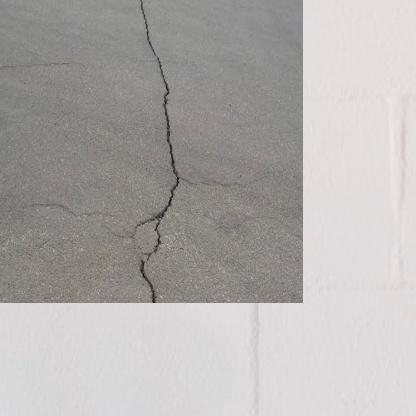Cracks: (118, 0, 179, 280)
